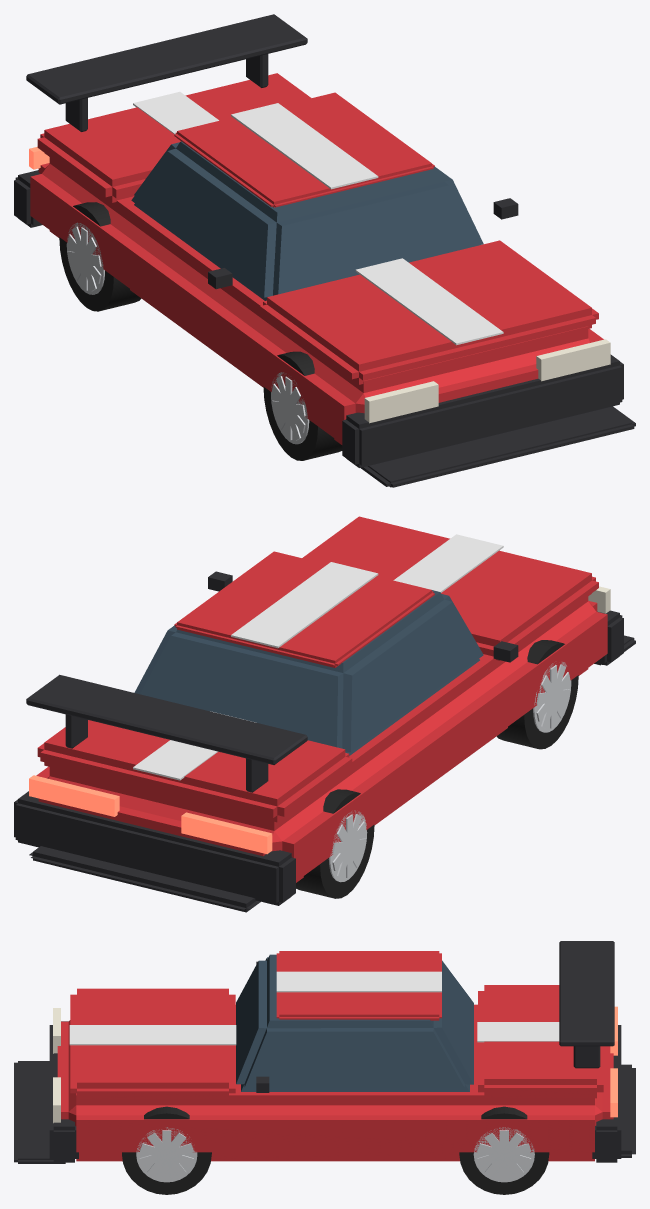
3 views of the same model, one above another, from view 1: azimuth 30°, elevation 25°; view 2: azimuth 150°, elevation 25°; view 3: azimuth 270°, elevation 25° (orthographic). The views are drawn at different scales.
Parts seen in each view (by area): view 1: Body, Cabin, Hood, Bumper_Front, Roof, Stripe, Spoiler, Trunk, Headlights, Wheel_RL, Wheel_FL, Rim_RL (+3 smaller); view 2: Body, Cabin, Bumper_Rear, Hood, Trunk, Roof, Spoiler, Stripe, Taillights, Wheel_FL, Wheel_RL, Rim_RL (+3 smaller); view 3: Body, Cabin, Hood, Trunk, Stripe, Roof, Spoiler, Bumper_Front, Bumper_Rear, Rim_RR, Rim_FR, Wheel_RR (+3 smaller).
Part boxes in pixels (bbox=[...]): Body: bbox=[30, 157, 603, 444]; Cabin: bbox=[131, 141, 483, 300]; Hood: bbox=[260, 240, 598, 384]; Bumper_Front: bbox=[342, 354, 635, 487]; Roof: bbox=[174, 92, 434, 207]; Stripe: bbox=[133, 91, 503, 345]; Spoiler: bbox=[26, 14, 307, 131]; Trunk: bbox=[37, 73, 311, 202]; Headlights: bbox=[364, 339, 610, 423]; Wheel_RL: bbox=[59, 202, 141, 311]; Wheel_FL: bbox=[263, 351, 342, 460]; Rim_RL: bbox=[66, 222, 104, 294]; Body: bbox=[36, 596, 607, 882]; Cabin: bbox=[134, 590, 483, 755]; Bumper_Rear: bbox=[14, 791, 295, 912]; Hood: bbox=[302, 516, 598, 660]; Trunk: bbox=[37, 720, 352, 822]; Roof: bbox=[174, 551, 434, 667]; Spoiler: bbox=[26, 674, 307, 792]; Stripe: bbox=[133, 534, 503, 780]; Taillights: bbox=[29, 775, 272, 854]; Wheel_FL: bbox=[496, 640, 578, 749]; Wheel_RL: bbox=[296, 789, 374, 898]; Rim_RL: bbox=[328, 810, 367, 882]; Body: bbox=[57, 1004, 613, 1161]; Cabin: bbox=[236, 954, 473, 1091]; Hood: bbox=[70, 988, 235, 1099]; Trunk: bbox=[478, 985, 603, 1098]; Stripe: bbox=[69, 971, 559, 1045]; Roof: bbox=[276, 951, 441, 1020]; Spoiler: bbox=[559, 941, 614, 1068]; Bumper_Front: bbox=[14, 1021, 78, 1163]; Bumper_Rear: bbox=[592, 1025, 635, 1162]; Rim_RR: bbox=[473, 1127, 534, 1182]; Rim_FR: bbox=[136, 1127, 197, 1182]; Wheel_RR: bbox=[459, 1106, 549, 1194].
Size of the model in its own units: 218 by 134 by 470.
